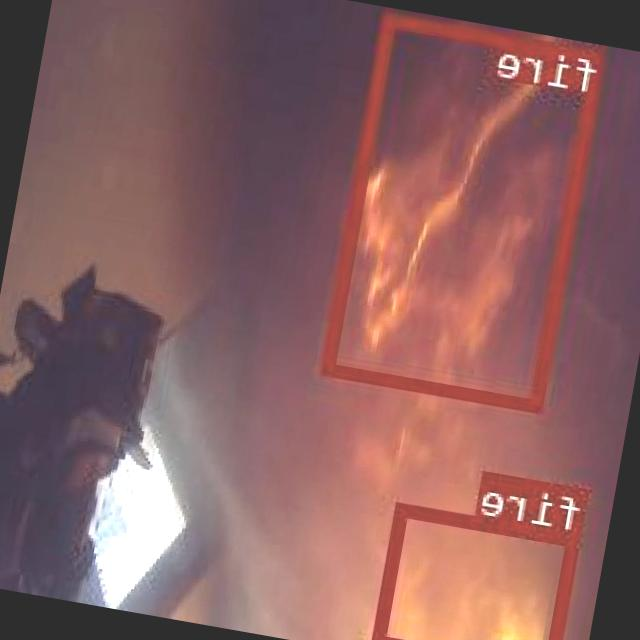fire: (324, 10, 608, 409), (375, 500, 582, 640)
